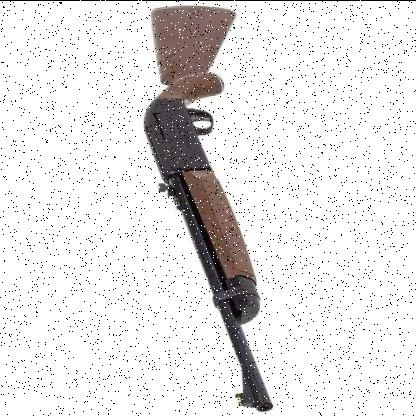rifle: (140, 3, 303, 415)
